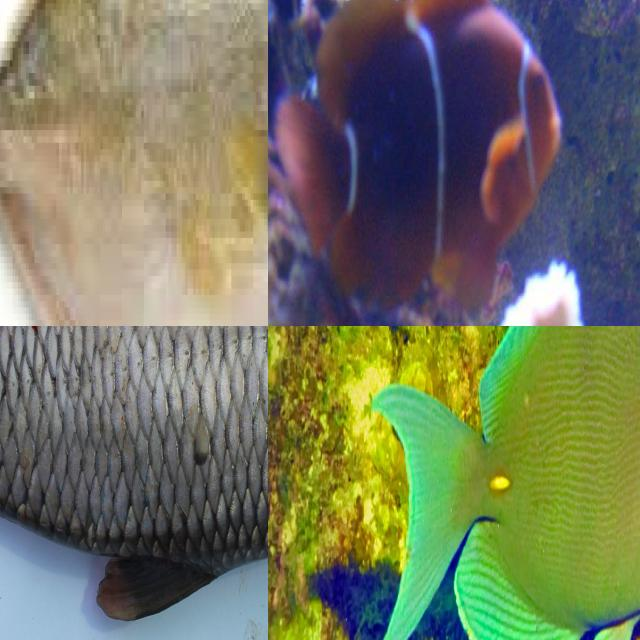fish: (268, 326, 640, 608), (0, 0, 268, 326), (268, 0, 568, 291), (0, 326, 268, 577)
